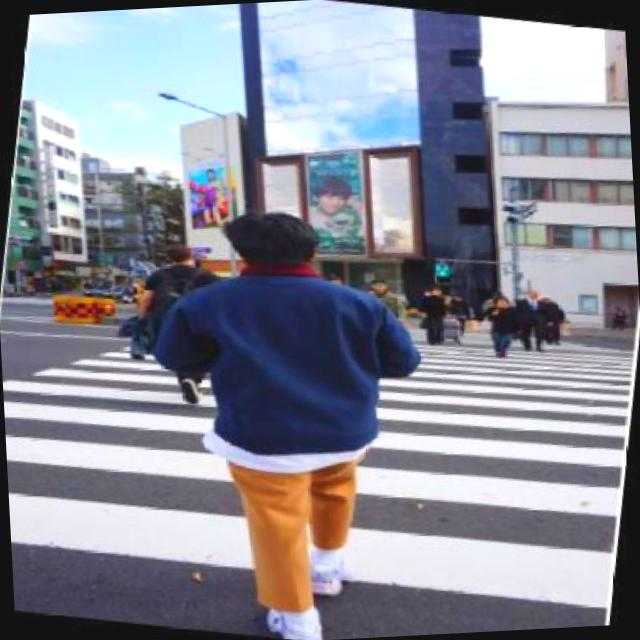Person: (102, 186, 456, 640), (121, 236, 239, 408), (477, 290, 530, 362), (510, 283, 561, 354), (412, 283, 462, 350), (361, 272, 412, 323)
